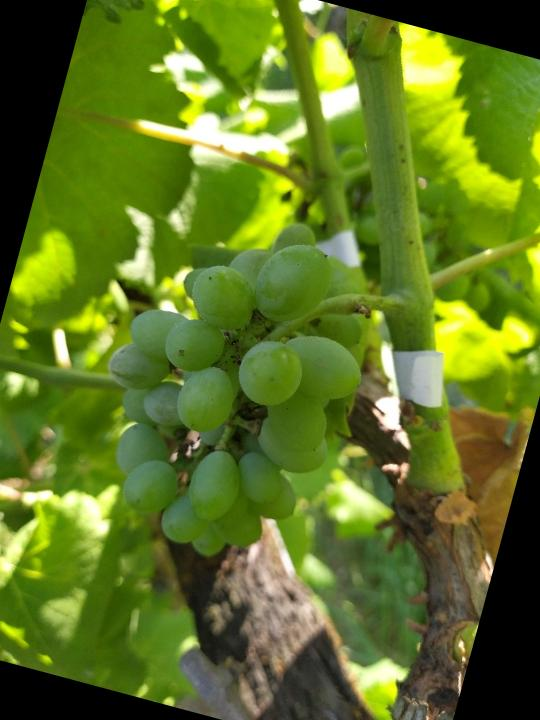grape: (57, 175, 404, 589)
